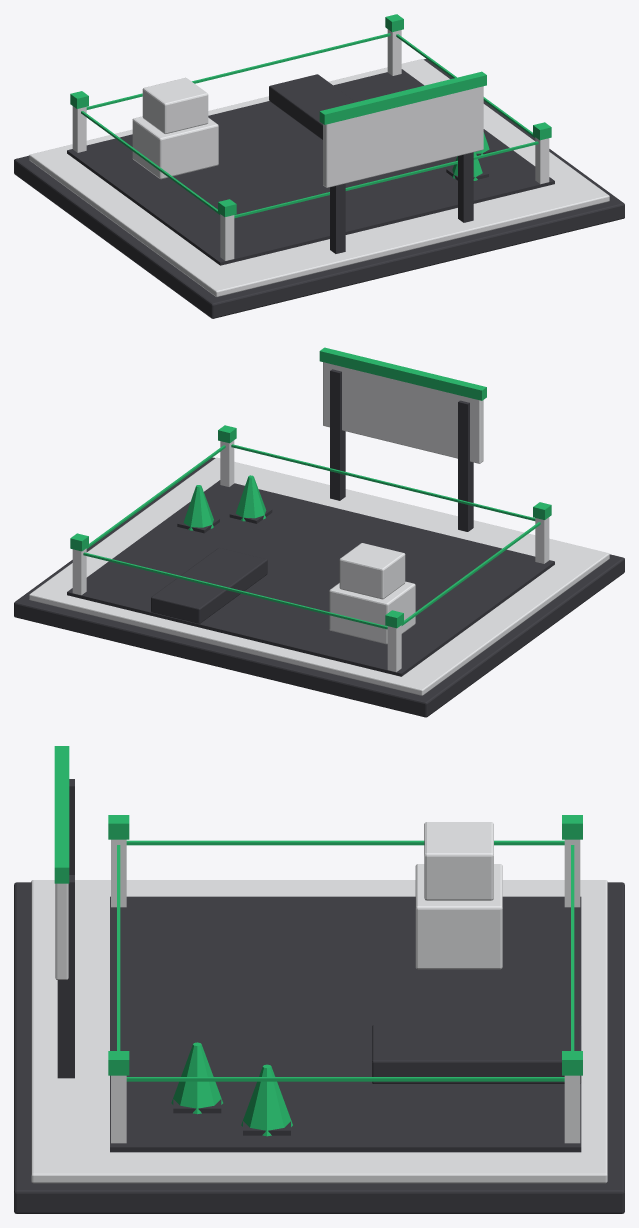
The model's file is plot.glb.
3 views of the same model, one above another, from view 1: azimuth 30°, elevation 25°; view 2: azimuth 150°, elevation 25°; view 3: azimuth 270°, elevation 25° (orthographic). The views are drawn at different scales.
Parts seen in each view (by area): view 1: plot; view 2: plot; view 3: plot.
Part boxes in pixels (x1,y1,x2,y2): plot: (14, 14, 624, 318); plot: (14, 347, 624, 717); plot: (14, 746, 624, 1213).
Size of the model in its own units: 8.4 by 3.2 by 7.
